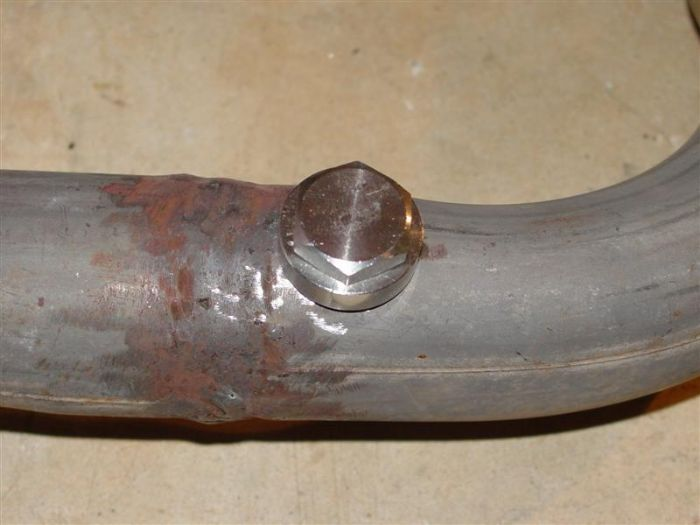Low: (97, 170, 316, 432), (293, 165, 452, 264)
